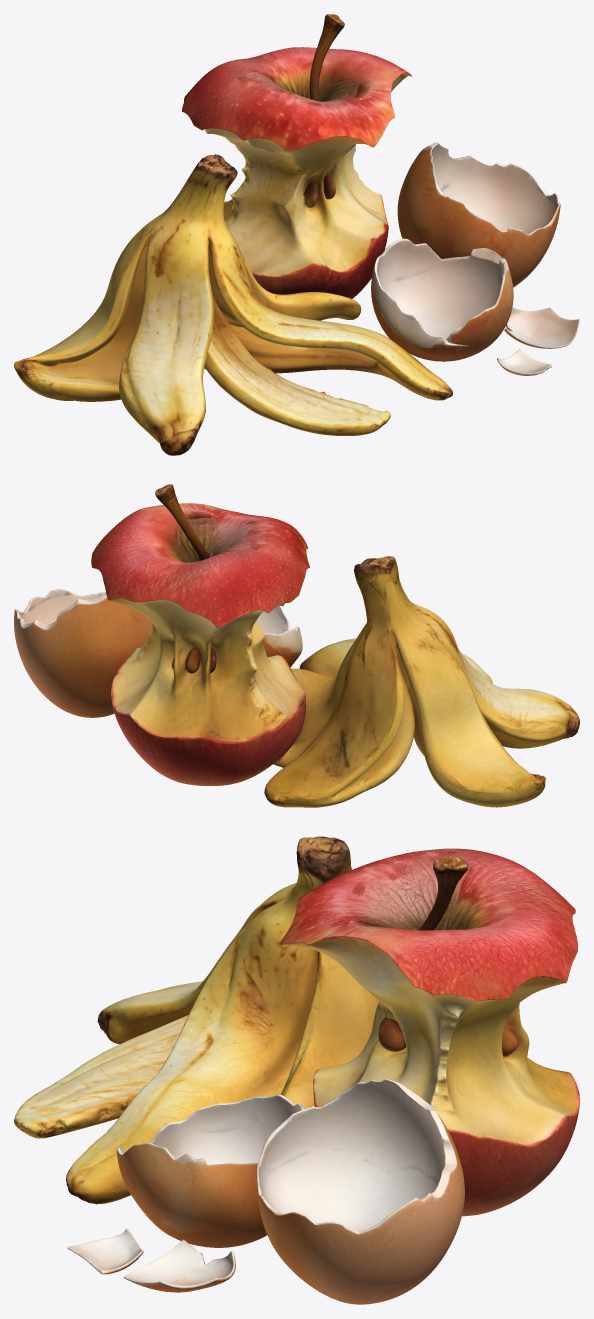
File: organicos.glb
The picture shows the model from 3 angles, top to bottom: view 1: azimuth 30°, elevation 25°; view 2: azimuth 150°, elevation 25°; view 3: azimuth 270°, elevation 25°; orthographic projection. The views are drawn at different scales.
Parts seen in each view (by area): view 1: model; view 2: model; view 3: model.
Boxes of the visible parts, x1=… form: model: x1=14, y1=14, x2=579, y2=455; model: x1=14, y1=484, x2=579, y2=807; model: x1=14, y1=836, x2=579, y2=1304.
Bounding box in the file's own units: 0.2987 × 0.15 × 0.2093.
Materials: 1 (1 with a texture image).
